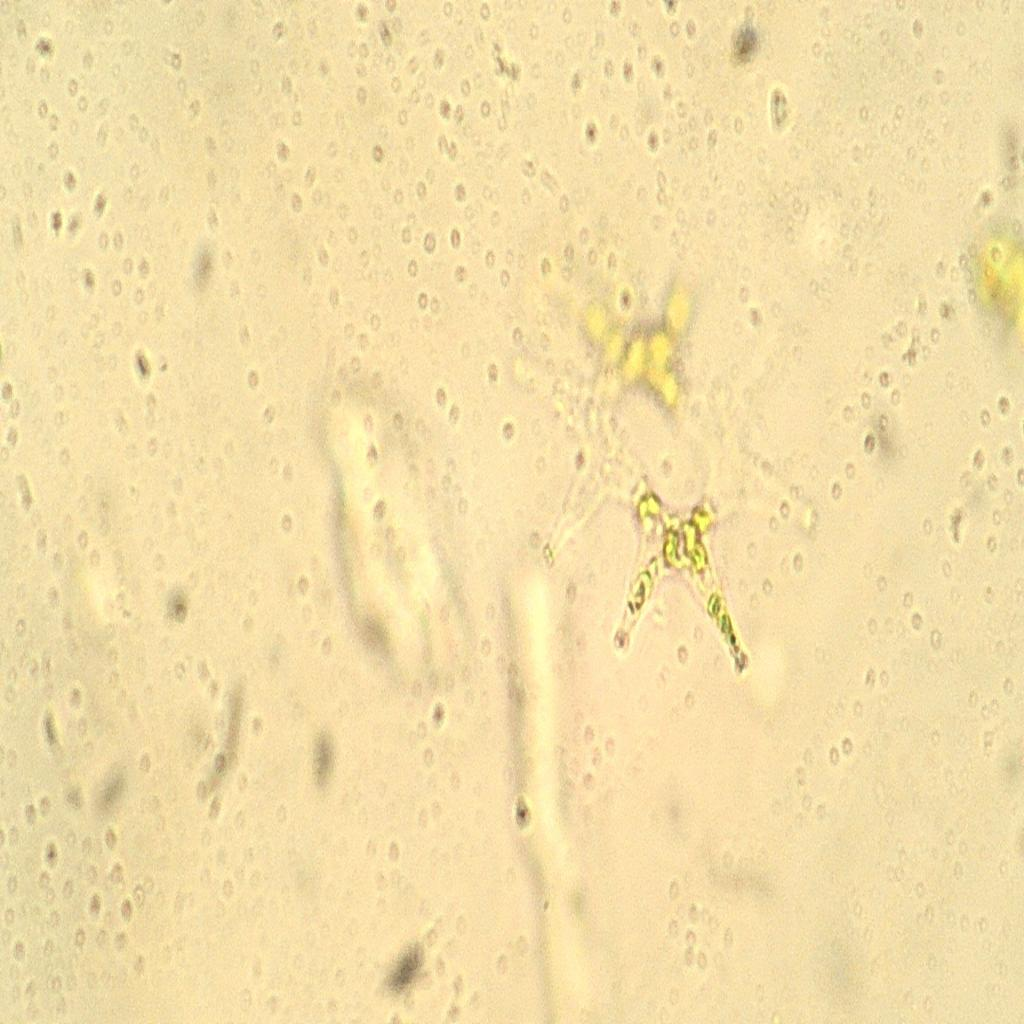Pediastrum_75TH: (502, 216, 830, 701)
